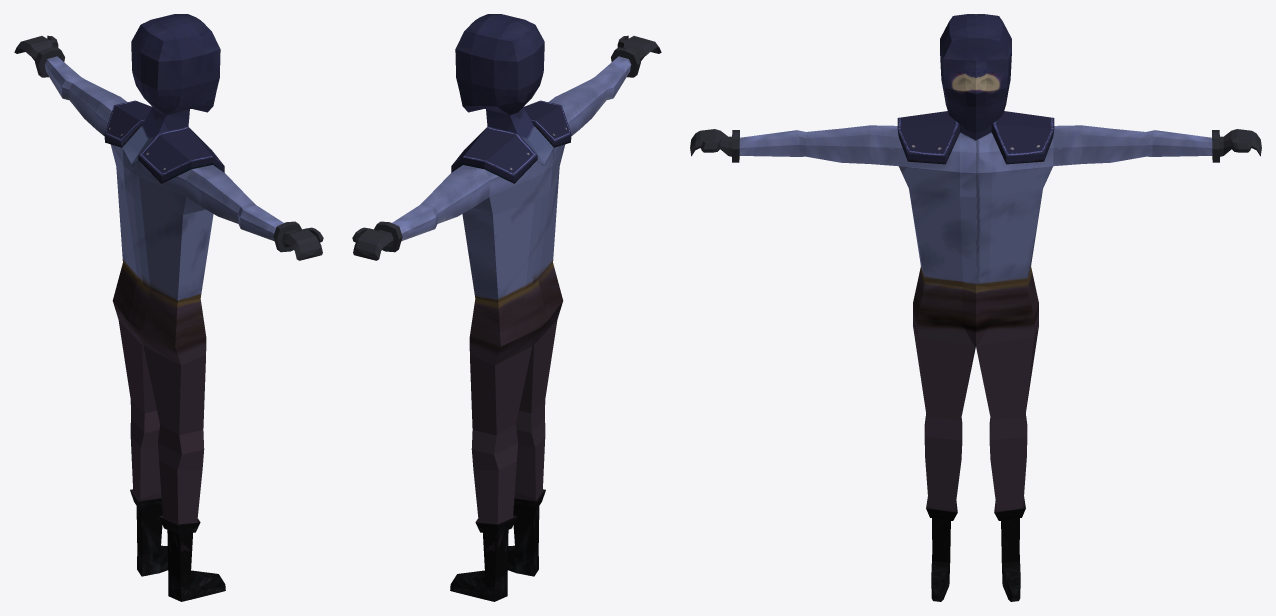
File: Guard.glb
3 renders of one model, left to right at view 1: azimuth 30°, elevation 25°; view 2: azimuth 150°, elevation 25°; view 3: azimuth 270°, elevation 25°, orthographic.
Parts seen in each view (by area): view 1: Guard; view 2: Guard; view 3: Guard.
Boxes of the visible parts, left/top/right/bottom form: Guard: left=14, top=14, right=323, bottom=601; Guard: left=352, top=14, right=661, bottom=601; Guard: left=690, top=14, right=1261, bottom=601.
Bounding box in the file's own units: 0.4162 × 2.57 × 2.35.
1 material, 1 textured.
